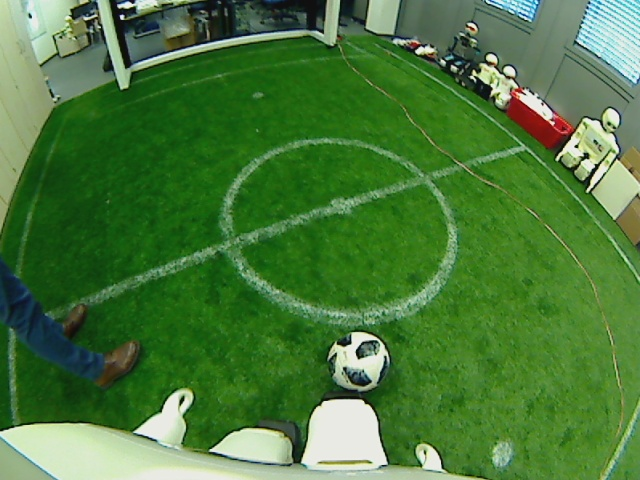ball: (325, 327, 390, 392)
